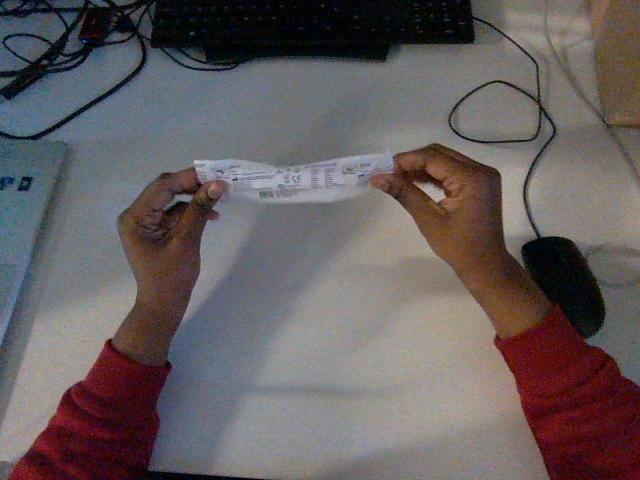syringe: (194, 151, 393, 203)
